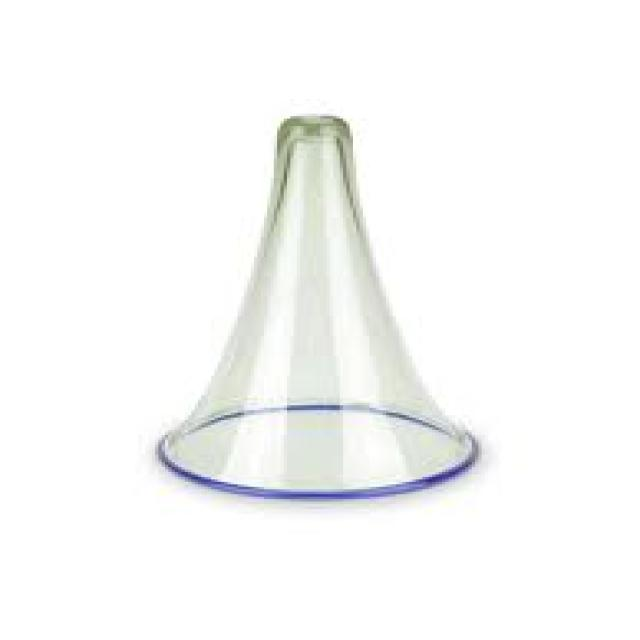glass: (155, 114, 475, 499)
